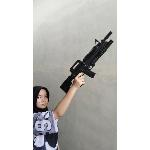Senapan: (58, 26, 116, 96)
